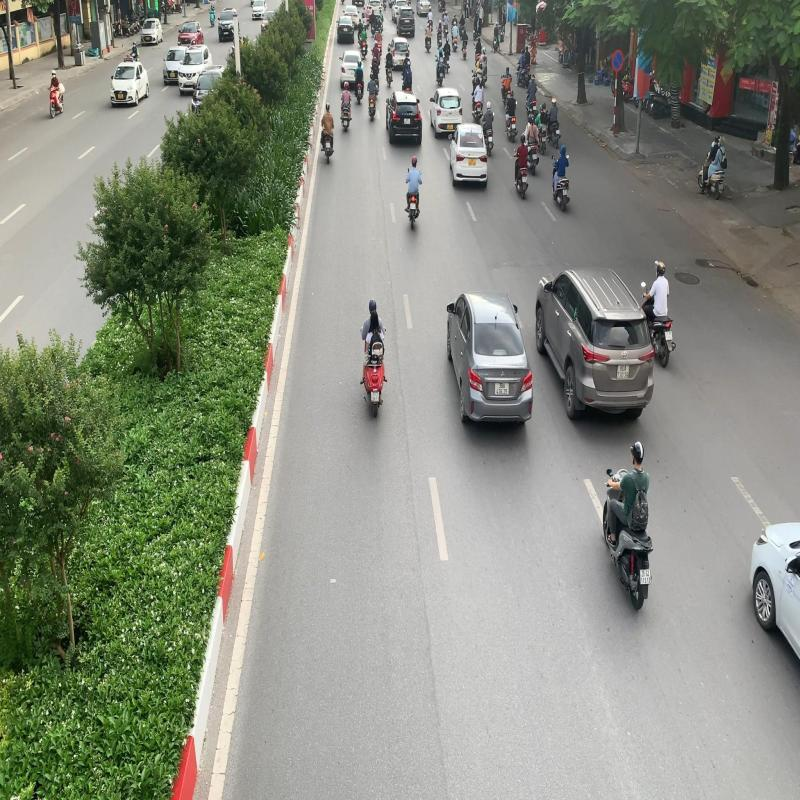helmet: (367, 297, 378, 311)
motorcyclist: (358, 295, 388, 420)
nohelmet: (369, 309, 381, 329)
